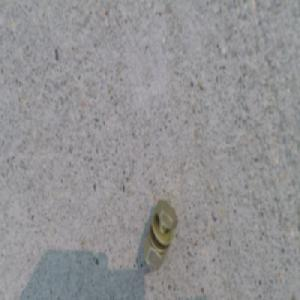BoltNutSet: (136, 195, 170, 267)
